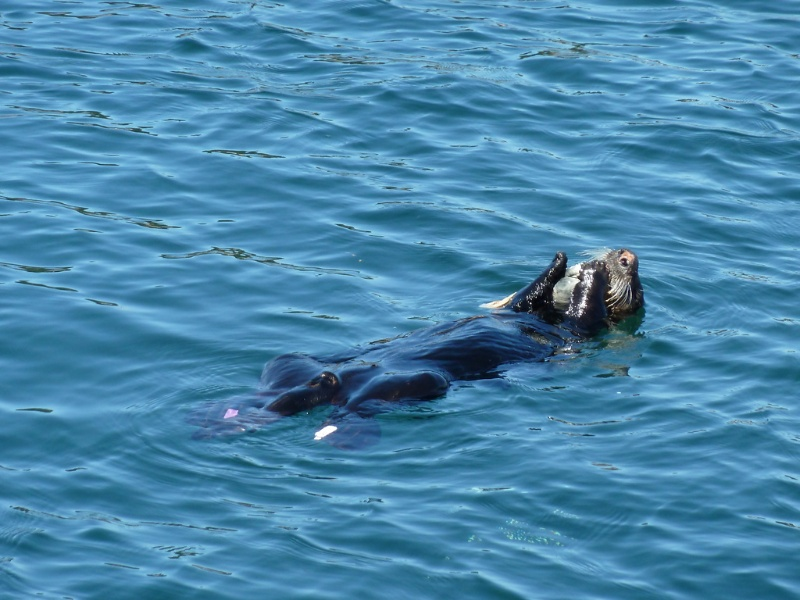minkish: (233, 244, 651, 432)
